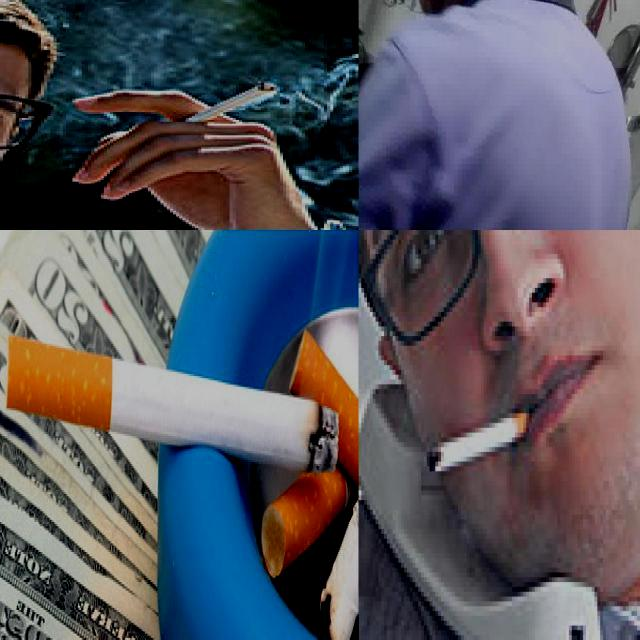cigarette: (1, 328, 348, 580), (426, 405, 541, 475), (182, 79, 284, 122)
